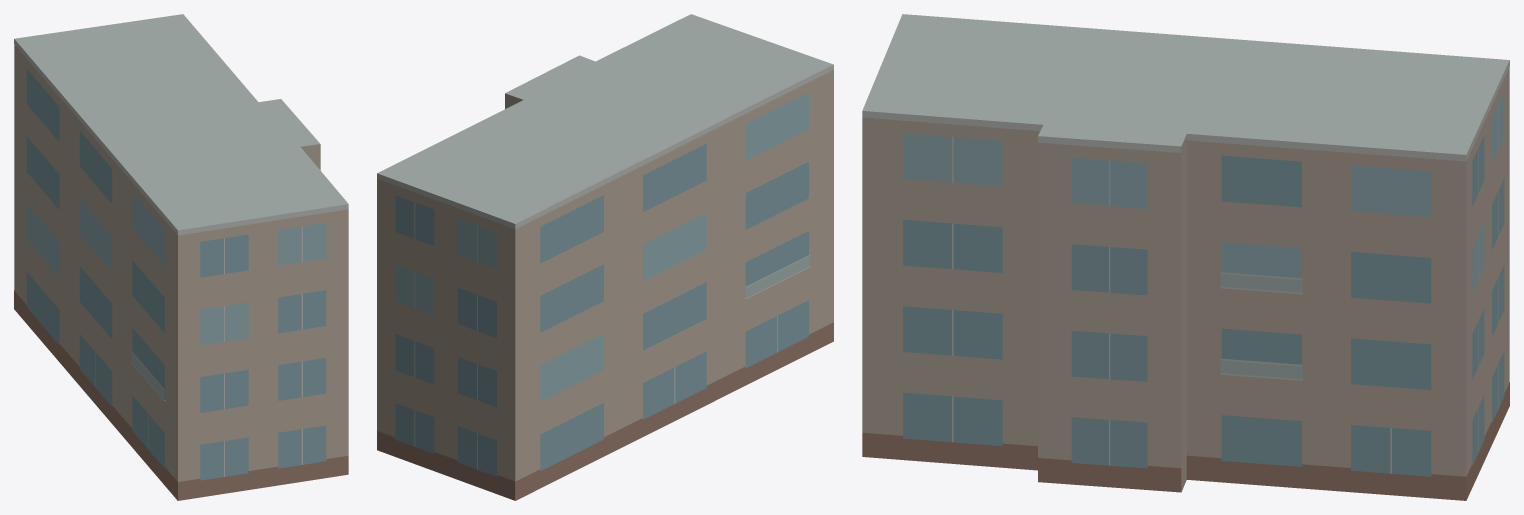
File: survey-upis-32654066.glb
3 views of the same model, side by side, from view 1: azimuth 30°, elevation 25°; view 2: azimuth 150°, elevation 25°; view 3: azimuth 270°, elevation 25° (orthographic). The views are drawn at different scales.
Parts seen in each view (by area): view 1: survey-upis-32654066.tmp; view 2: survey-upis-32654066.tmp; view 3: survey-upis-32654066.tmp.
Boxes of the visible parts, left/top/right/bottom form: survey-upis-32654066.tmp: left=14, top=14, right=348, bottom=500; survey-upis-32654066.tmp: left=377, top=14, right=833, bottom=500; survey-upis-32654066.tmp: left=862, top=14, right=1509, bottom=500.
Bounding box in the file's own units: 11.19 × 12.8 × 21.72.
